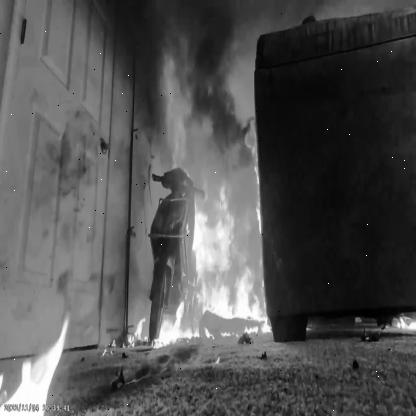fire: (149, 185, 273, 348), (0, 299, 73, 416)
smoke: (127, 4, 416, 299)
